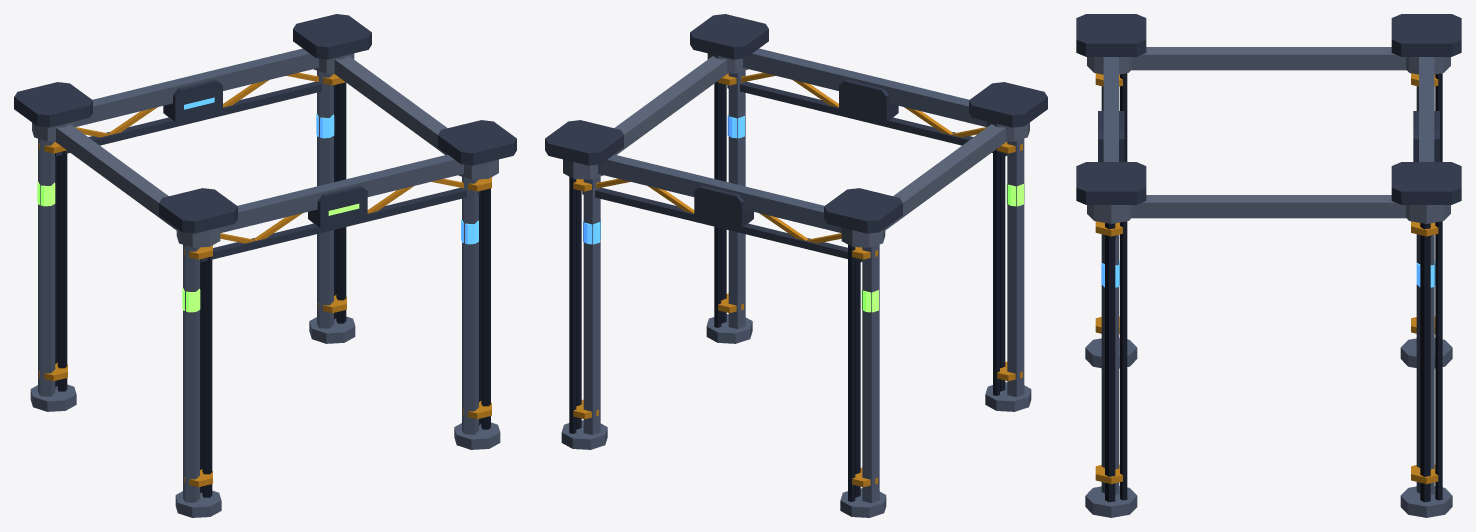
Rendered from lab_ceiling_manifold.glb.
3 renders of one model, left to right at view 1: azimuth 30°, elevation 25°; view 2: azimuth 150°, elevation 25°; view 3: azimuth 270°, elevation 25°, orthographic. The views are drawn at different scales.
Parts seen in each view (by area): view 1: chord, ceiling_shoe, drop.001, header, pipe_clamp, flow_indicator.001, flow_indicator; view 2: chord, ceiling_shoe, drop.001, header, pipe_clamp, flow_indicator.001, flow_indicator; view 3: header, ceiling_shoe, chord, drop.001, pipe_clamp, flow_indicator.
Part boxes in pixels (x1,y1,x2,y2): chord: (30, 48, 500, 517); ceiling_shoe: (14, 14, 516, 262); drop.001: (55, 82, 490, 497); header: (32, 53, 498, 247); pipe_clamp: (39, 72, 491, 487); flow_indicator.001: (37, 181, 359, 312); flow_indicator: (184, 97, 478, 244); chord: (561, 48, 1031, 517); ceiling_shoe: (545, 14, 1047, 262); drop.001: (569, 81, 1005, 501); header: (563, 53, 1029, 247); pipe_clamp: (573, 72, 1022, 487); flow_indicator.001: (861, 182, 1024, 312); flow_indicator: (583, 114, 744, 244); header: (1087, 47, 1450, 223); ceiling_shoe: (1076, 14, 1461, 237); chord: (1085, 57, 1452, 517); drop.001: (1105, 73, 1442, 502); pipe_clamp: (1095, 73, 1438, 484); flow_indicator: (1101, 261, 1435, 287).
Bounding box in the file's own units: 6 × 5.2 × 5.5.
